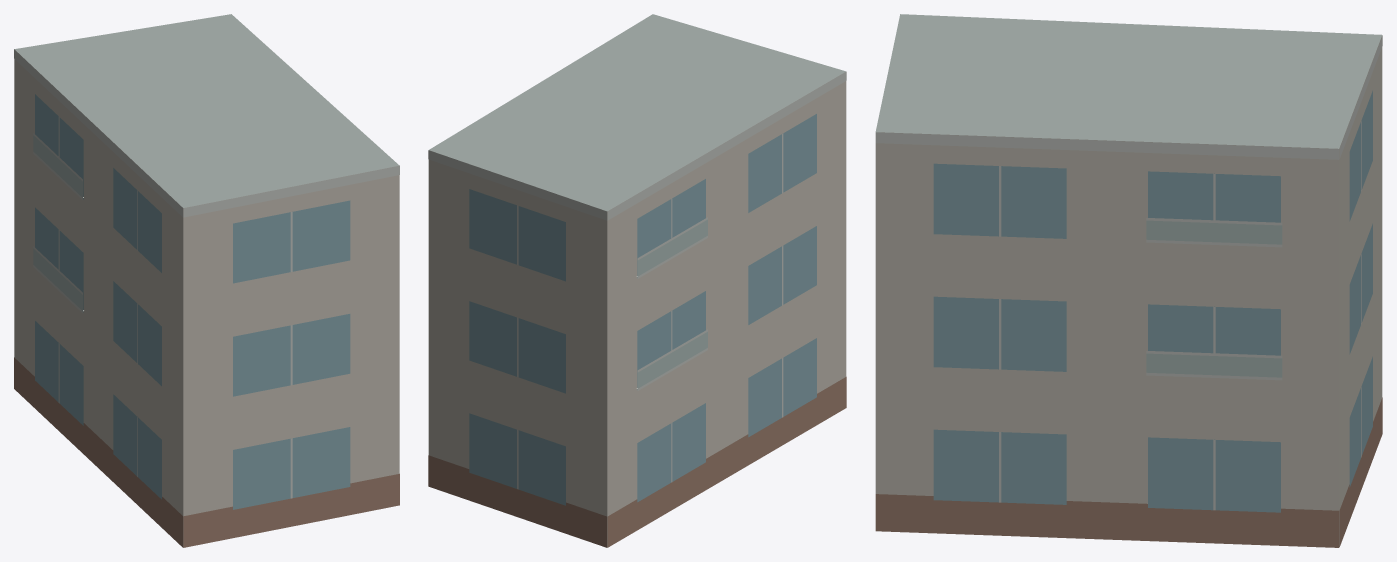
File: survey-upis-32617311.glb
The picture shows the model from 3 angles, left to right: view 1: azimuth 30°, elevation 25°; view 2: azimuth 150°, elevation 25°; view 3: azimuth 270°, elevation 25°; orthographic projection. The views are drawn at different scales.
Visible parts, largest first — view 1: survey-upis-32617311.tmp; view 2: survey-upis-32617311.tmp; view 3: survey-upis-32617311.tmp.
Part boxes in pixels (left/top/right/bottom): survey-upis-32617311.tmp: left=14, top=14, right=399, bottom=547; survey-upis-32617311.tmp: left=428, top=14, right=846, bottom=547; survey-upis-32617311.tmp: left=875, top=14, right=1382, bottom=547.
Bounding box in the file's own units: 6.39 × 8.8 × 10.14.
